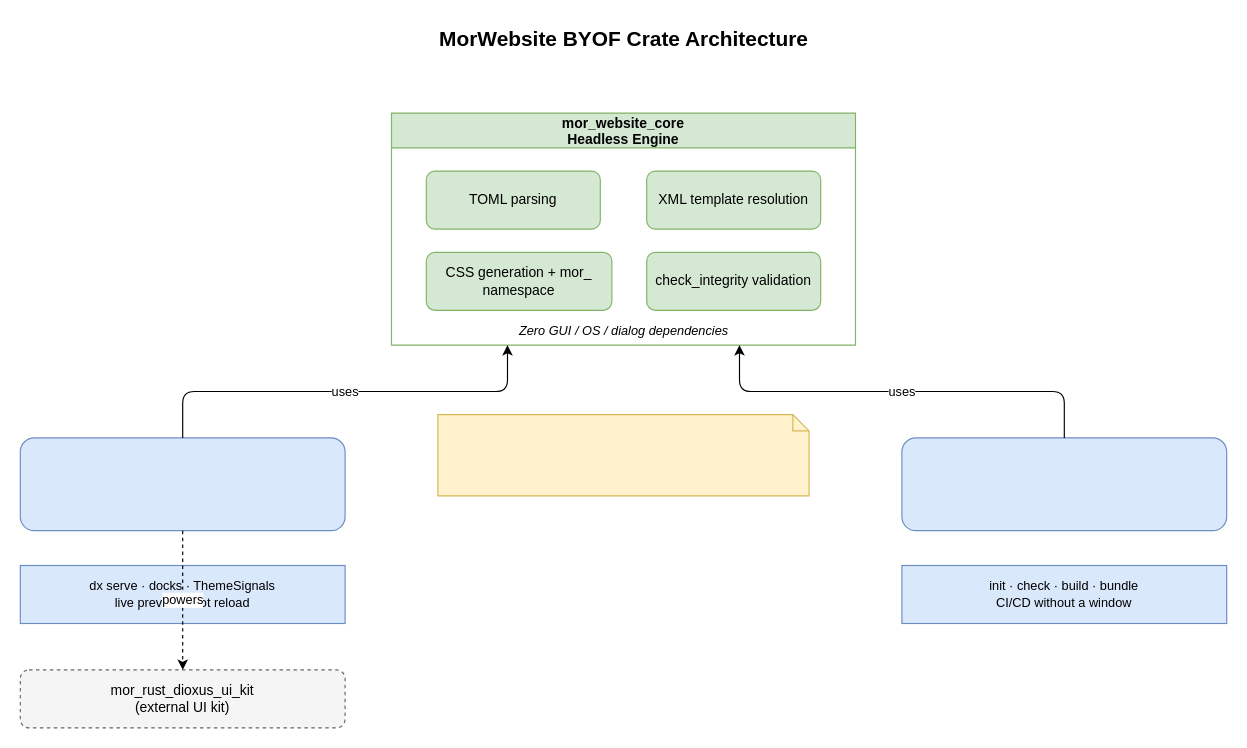
The diagram is 1247 pixels wide and 748 high, and some of its shapes have lost their labels. The shapes that lost their labels are listed below. From the top down, each one's centre as x and y in pixels, then its label:
(623,455): Hard compile-time boundary frontends call core only
(182,484): mor_website_dioxus_ui Visual Workspace
(1064,484): mor_website_cli (mwt) Terminal Interface
